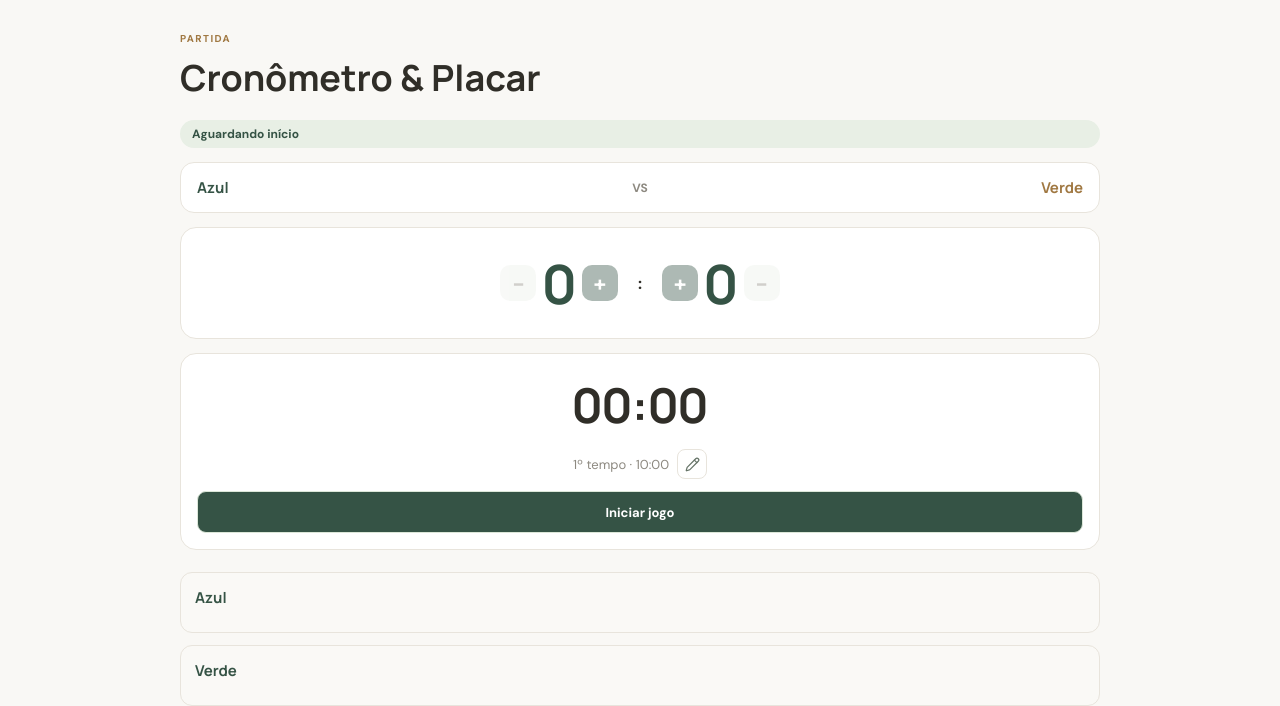
Test case: edição da duração antes do início › mantém a edição aberta e exibe erro quando a API rejeita a alteração
Click the button named "Editar duração do jogo".
click(692, 464)  # box [677,449,707,479]
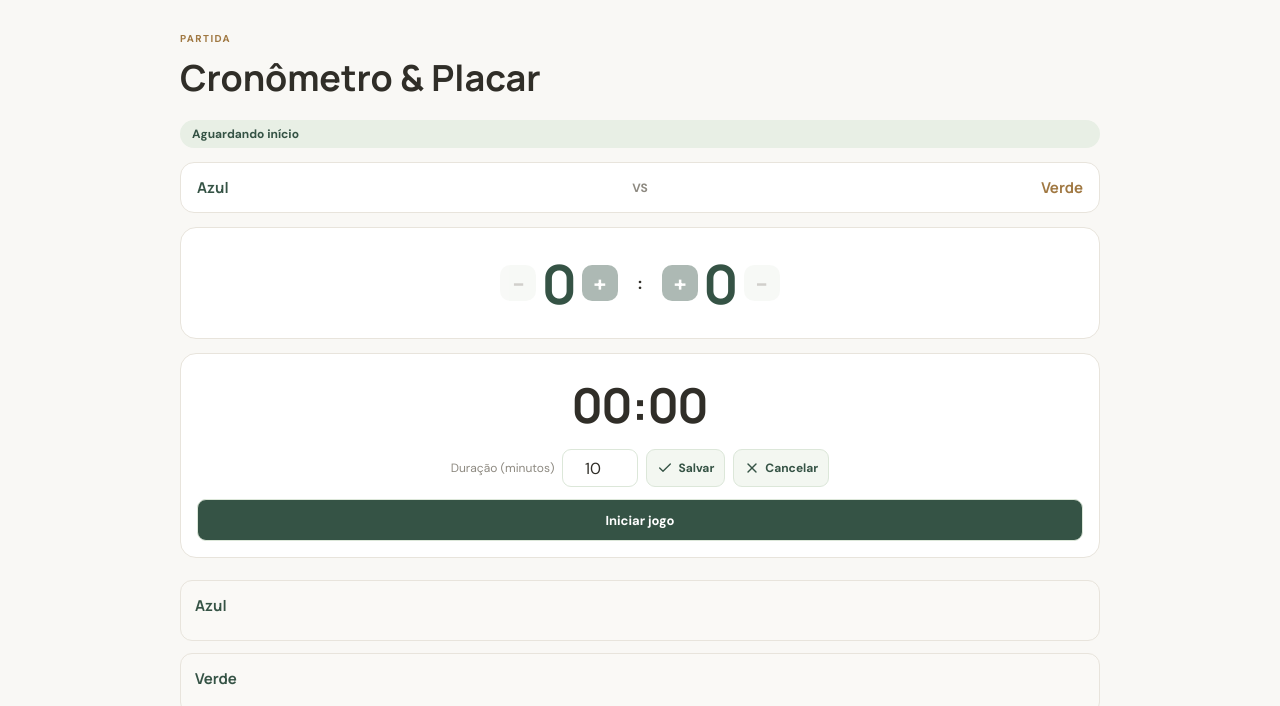
Replace the text in the number field labelled "Duração (minutos)" with "15" at (600, 468), box [562,449,638,487]
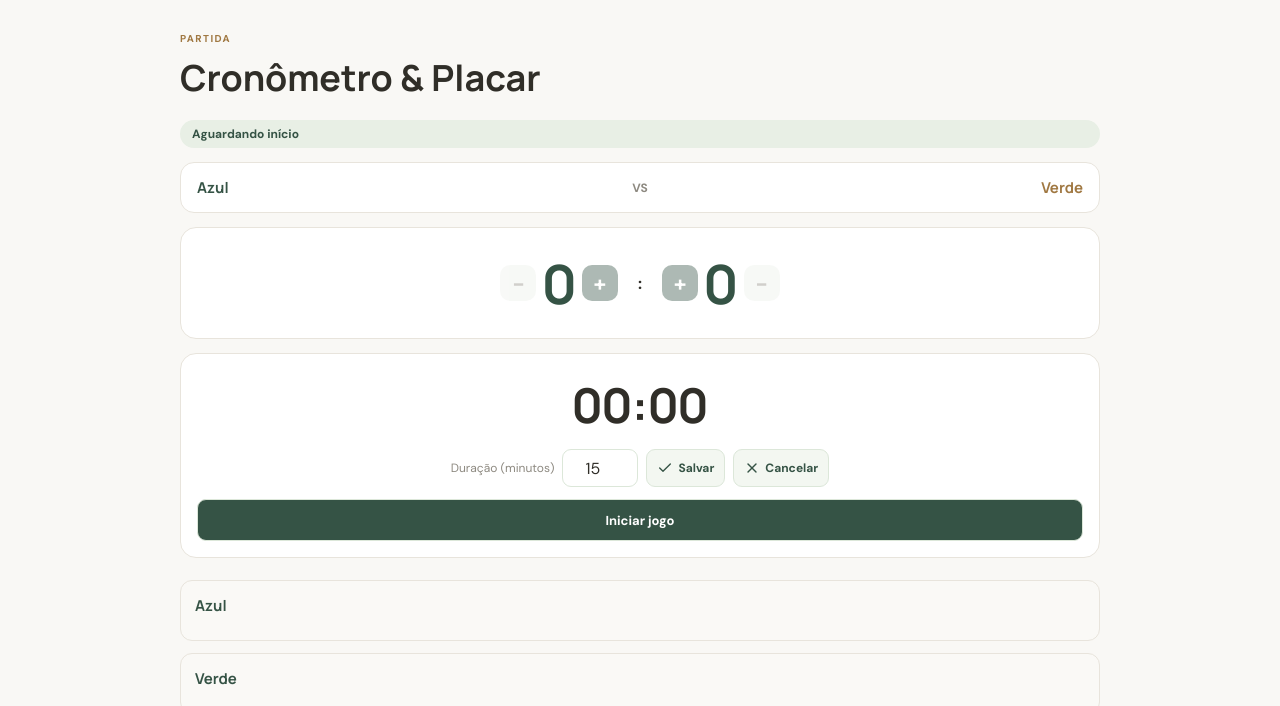
Click the button with aria-label "Salvar duração".
click(686, 468)  # box [646,449,725,487]
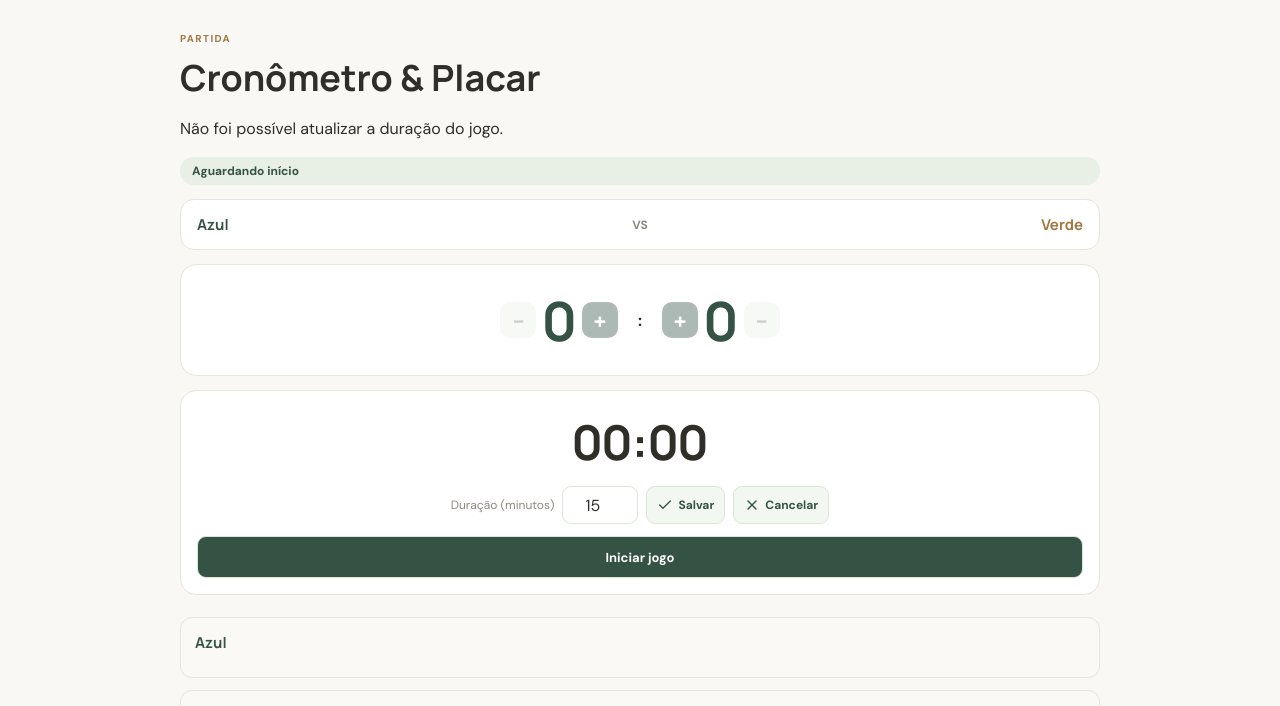
Expected: the message "Não foi possível atualizar a duração do jogo." is shown, [180,118,503,139]
